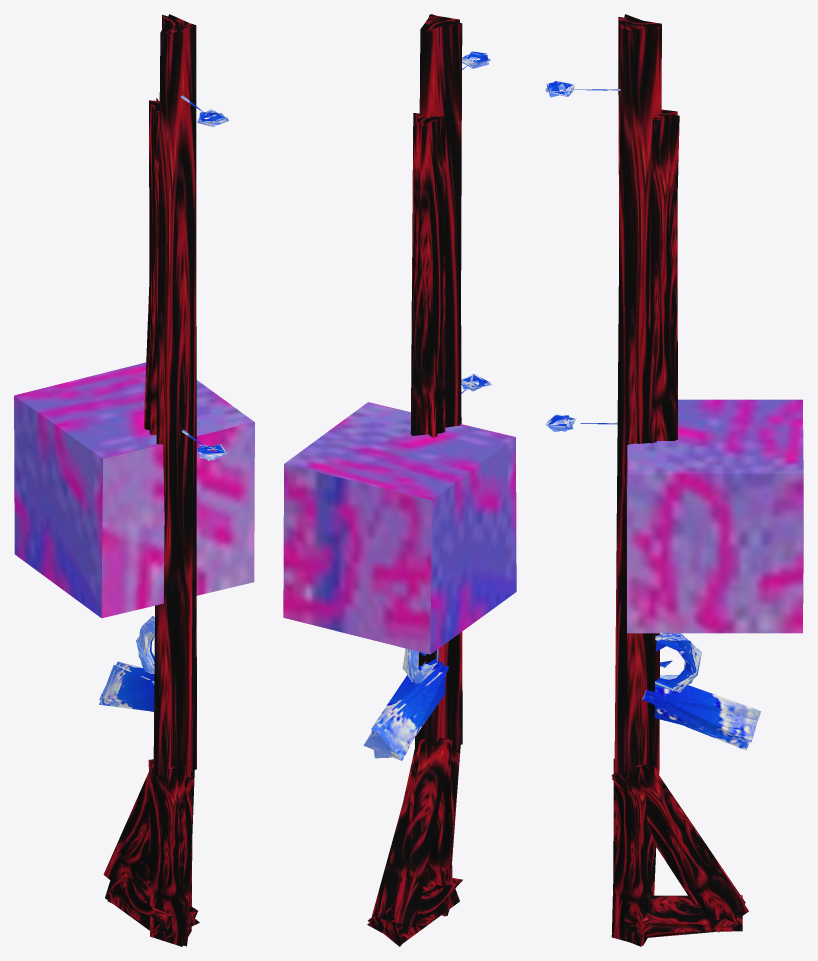
Rendered from mimita-lmg-v1.glb.
3 views of the same model, side by side, from view 1: azimuth 30°, elevation 25°; view 2: azimuth 150°, elevation 25°; view 3: azimuth 270°, elevation 25° (orthographic). The views are drawn at different scales.
Visible parts, largest first — view 1: Cube.2725; view 2: Cube.2725; view 3: Cube.2725.
Part boxes in pixels (x1,y1,x2,y2): Cube.2725: (14, 14, 254, 946); Cube.2725: (283, 14, 516, 946); Cube.2725: (545, 14, 803, 946).
Bounding box in the file's own units: 1.11 × 6.3 × 1.61.
Materials: 3 (3 with a texture image).
